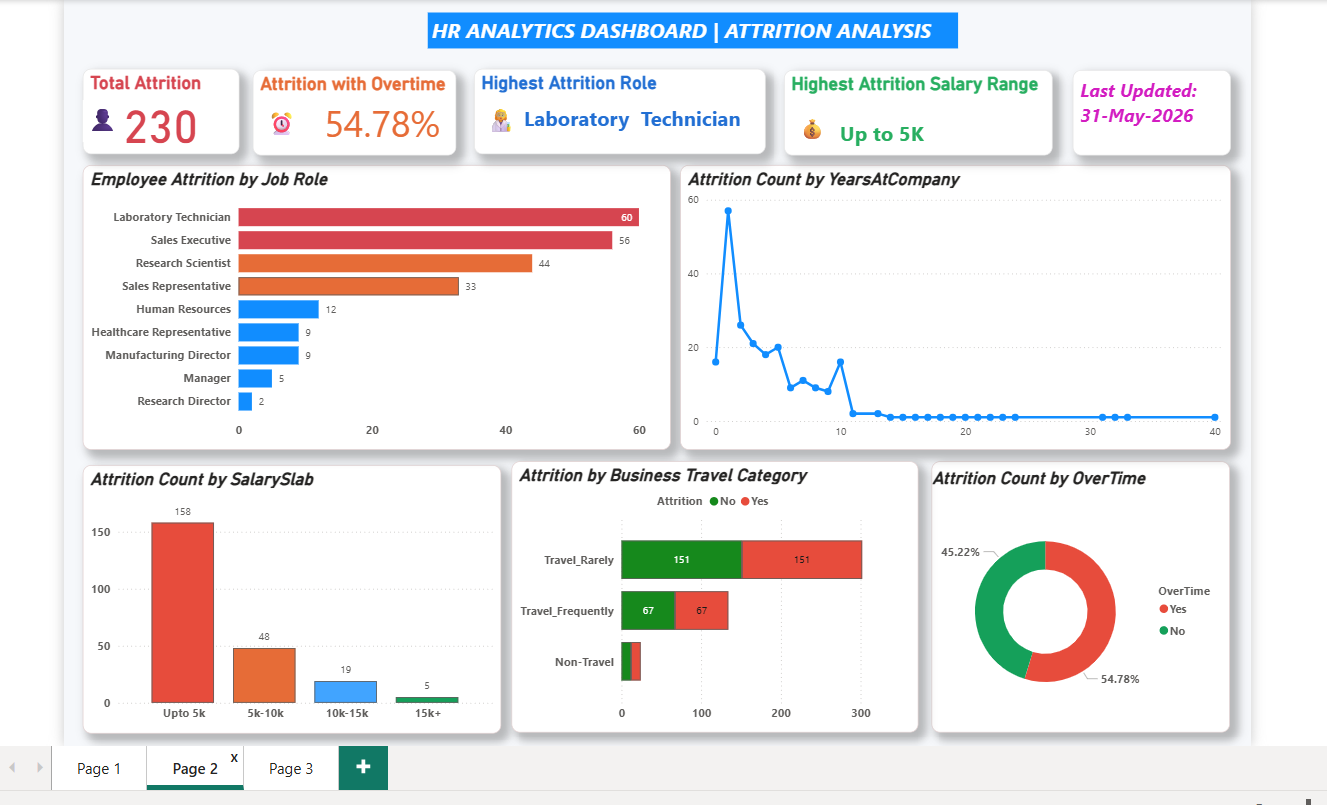

What the dashboard file says about the page in this screenshot:
{"tool":"powerbi","page":{"name":"Page 2","canvas":[1400,880],"ordinal":1},"visuals":[{"type":"textbox","box":[429.2,15,625.9,42],"z":0},{"type":"donutChart","fields":{"Category":["HR_Analytics.OverTime"],"Y":["HR_Analytics.Attrition Count"]},"box":[1024,544,352,320],"z":1000},{"type":"clusteredColumnChart","fields":{"Category":["HR_Analytics.SalarySlab"],"Y":["HR_Analytics.Attrition Count"]},"box":[22.5,547.8,493.8,316.7],"z":2000},{"type":"barChart","title":"Employee Attrition by Job Role","fields":{"Category":["HR_Analytics.JobRole"],"Y":["HR_Analytics.Attrition Count"]},"box":[22.5,195.1,693.4,336.2],"z":3000},{"type":"lineChart","fields":{"Category":["HR_Analytics.YearsAtCompany"],"Y":["HR_Analytics.Attrition Count"]},"box":[726.4,195.1,649.9,336.2],"z":4000},{"type":"barChart","title":"Attrition by Business Travel Category","fields":{"Category":["HR_Analytics.BusinessTravel"],"Y":["HR_Analytics.Attrition Count"],"Series":["HR_Analytics.Attrition"]},"box":[528,544,480,320],"z":5000},{"type":"card","title":"Total Attrition","fields":{"Values":["HR_Analytics.Attrition Count"]},"box":[22.5,81,184.6,100.6],"z":6000},{"type":"textbox","title":"Attrition with Overtime","box":[222.1,82.5,240.1,100.6],"z":7000},{"type":"textbox","title":"Highest Attrition Role","box":[483.3,81,343.7,100.6],"z":8000},{"type":"textbox","title":"Highest Attrition Salary Range","box":[849.5,82.5,316.7,100.6],"z":9000},{"type":"textbox","box":[22.5,118.6,48,49.5],"z":10000},{"type":"textbox","box":[232.6,123.1,51,45],"z":11000},{"type":"textbox","box":[492.3,118.6,46.5,49.5],"z":12000},{"type":"textbox","box":[861.5,129.1,45,43.5],"z":13000},{"type":"textbox","box":[1190.2,82.5,186.1,100.6],"z":14000}]}

Visuals, with their boxes on the page's 1400x880 design canvas (x1, y1, x2, y2). These are canvas units, not pixel positions in the 1327x805 screenshot, which may show the page scaled, cropped or inside an application window:
textbox: x1=429, y1=15, x2=1055, y2=57
donutChart - HR_Analytics.OverTime x HR_Analytics.Attrition Count: x1=1024, y1=544, x2=1376, y2=864
clusteredColumnChart - HR_Analytics.SalarySlab x HR_Analytics.Attrition Count: x1=22, y1=548, x2=516, y2=864
"Employee Attrition by Job Role" barChart: x1=22, y1=195, x2=716, y2=531
lineChart - HR_Analytics.YearsAtCompany x HR_Analytics.Attrition Count: x1=726, y1=195, x2=1376, y2=531
"Attrition by Business Travel Category" barChart: x1=528, y1=544, x2=1008, y2=864
"Total Attrition" card: x1=22, y1=81, x2=207, y2=182
"Attrition with Overtime" textbox: x1=222, y1=82, x2=462, y2=183
"Highest Attrition Role" textbox: x1=483, y1=81, x2=827, y2=182
"Highest Attrition Salary Range" textbox: x1=850, y1=82, x2=1166, y2=183
textbox: x1=22, y1=119, x2=70, y2=168
textbox: x1=233, y1=123, x2=284, y2=168
textbox: x1=492, y1=119, x2=539, y2=168
textbox: x1=862, y1=129, x2=906, y2=173
textbox: x1=1190, y1=82, x2=1376, y2=183
